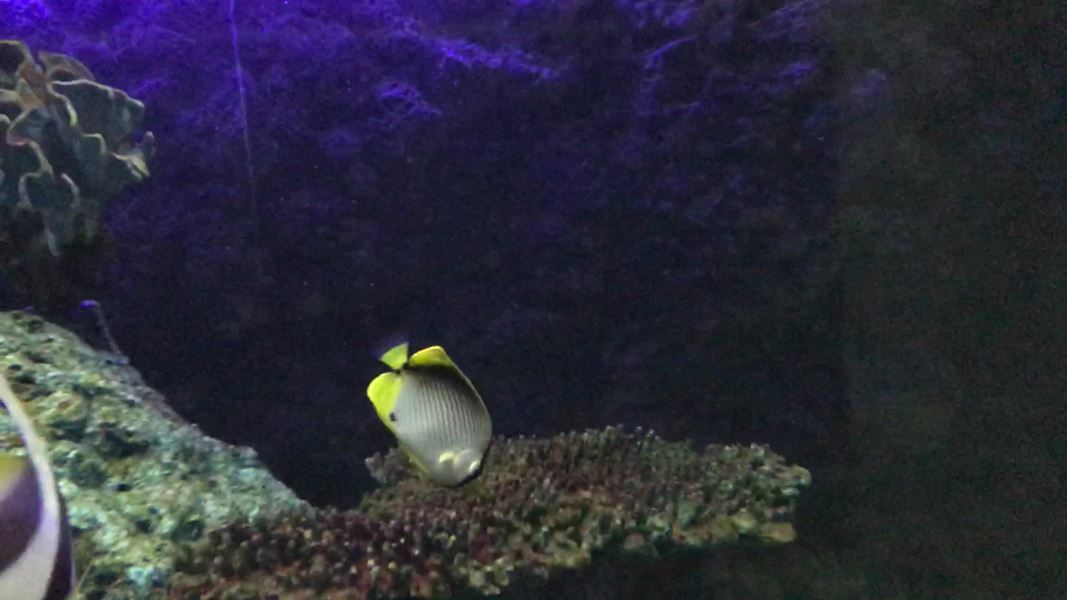Black-backed butterflyfish: (359, 321, 514, 504)
